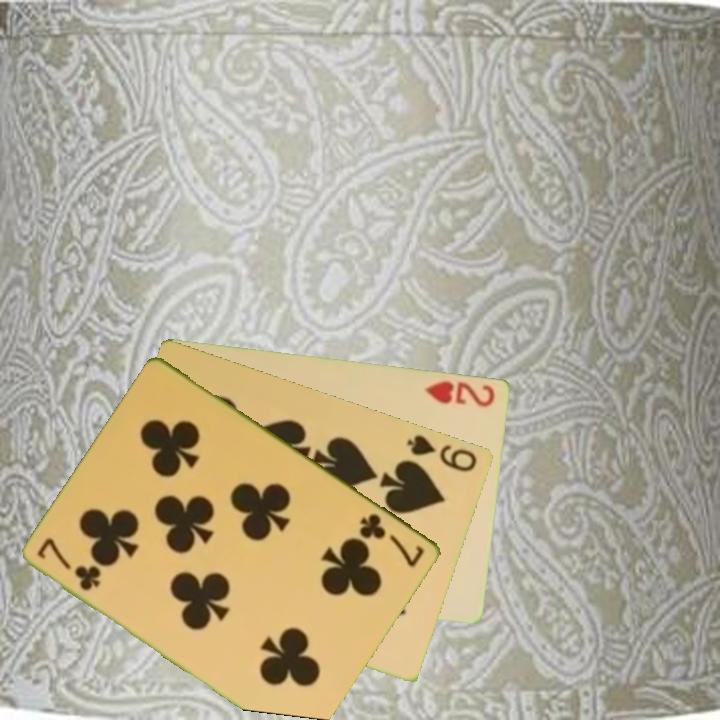2h: (421, 377, 498, 410)
7c: (356, 509, 428, 570), (34, 534, 105, 594)
9s: (404, 430, 481, 475)
